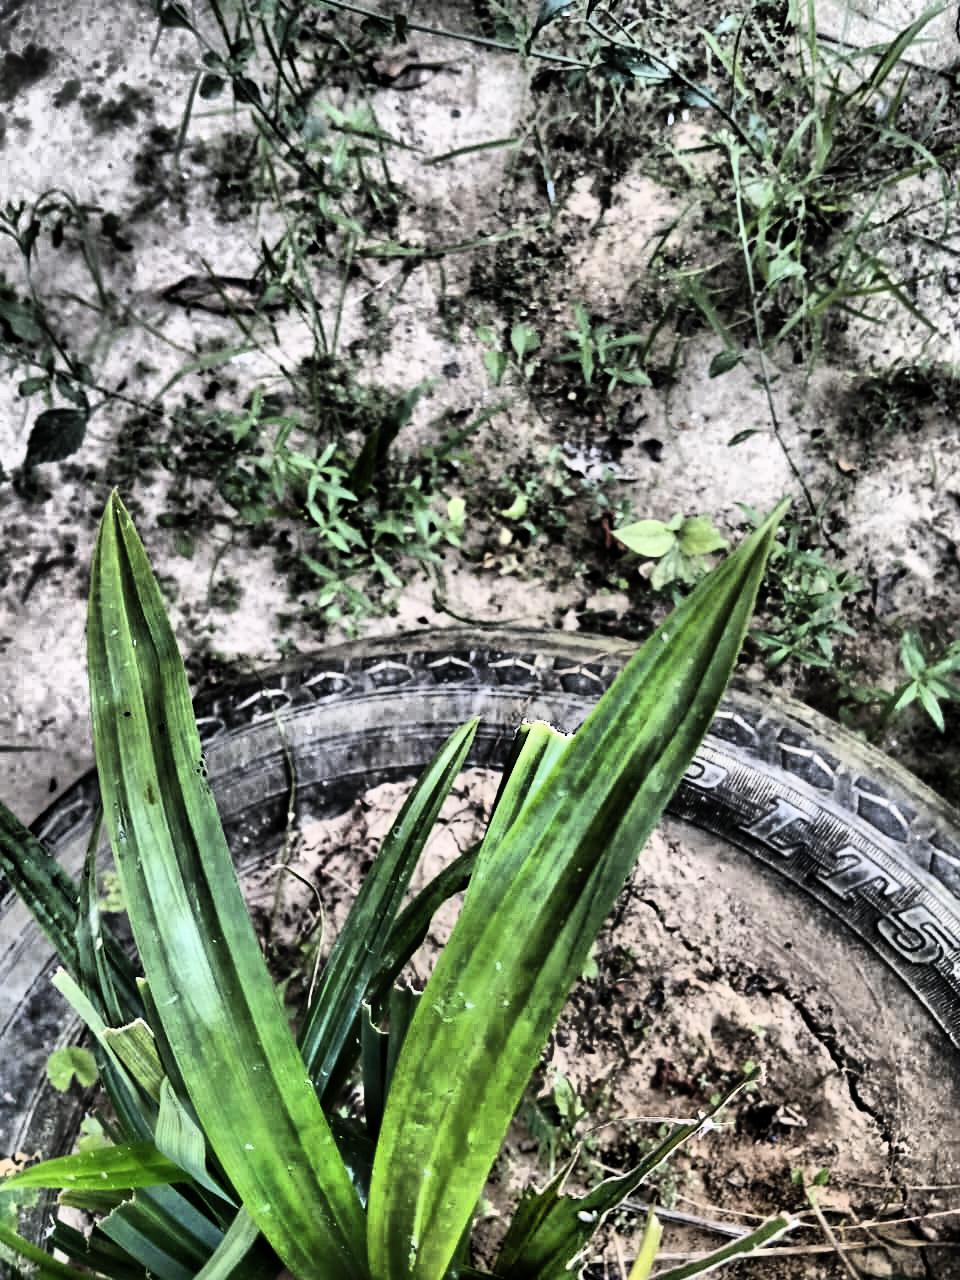daun pandan: (0, 494, 779, 1279)
